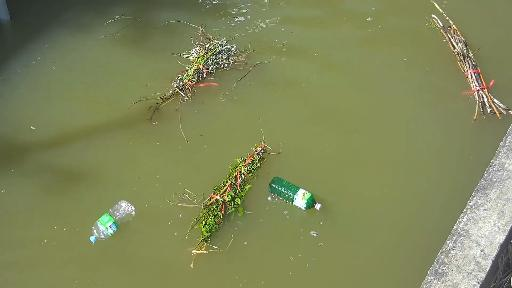plastic: (267, 171, 329, 219), (89, 199, 139, 247)
twig: (107, 13, 269, 140), (166, 134, 292, 255), (417, 1, 512, 121)
